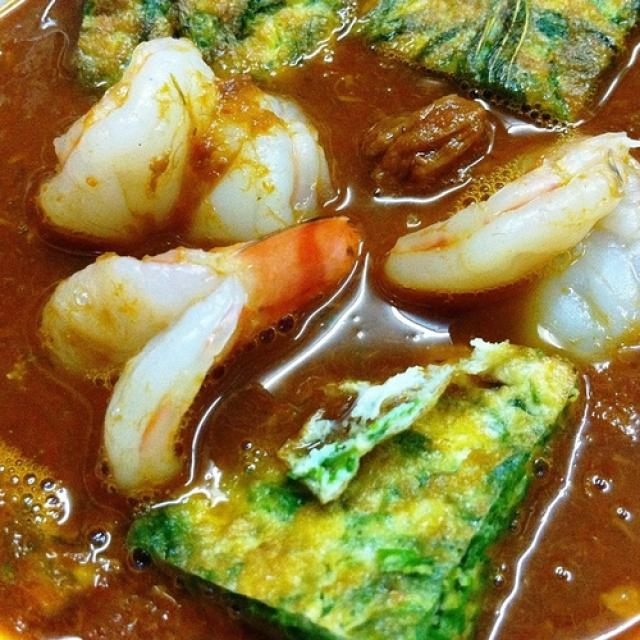汤锅炖物: (4, 3, 637, 631)
